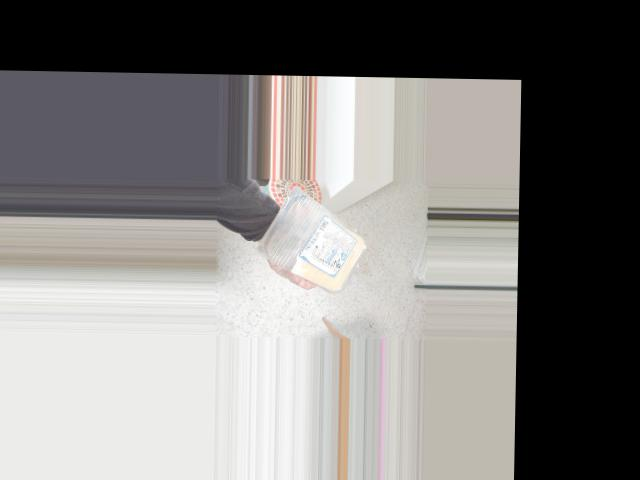cheese: (267, 195, 370, 286)
